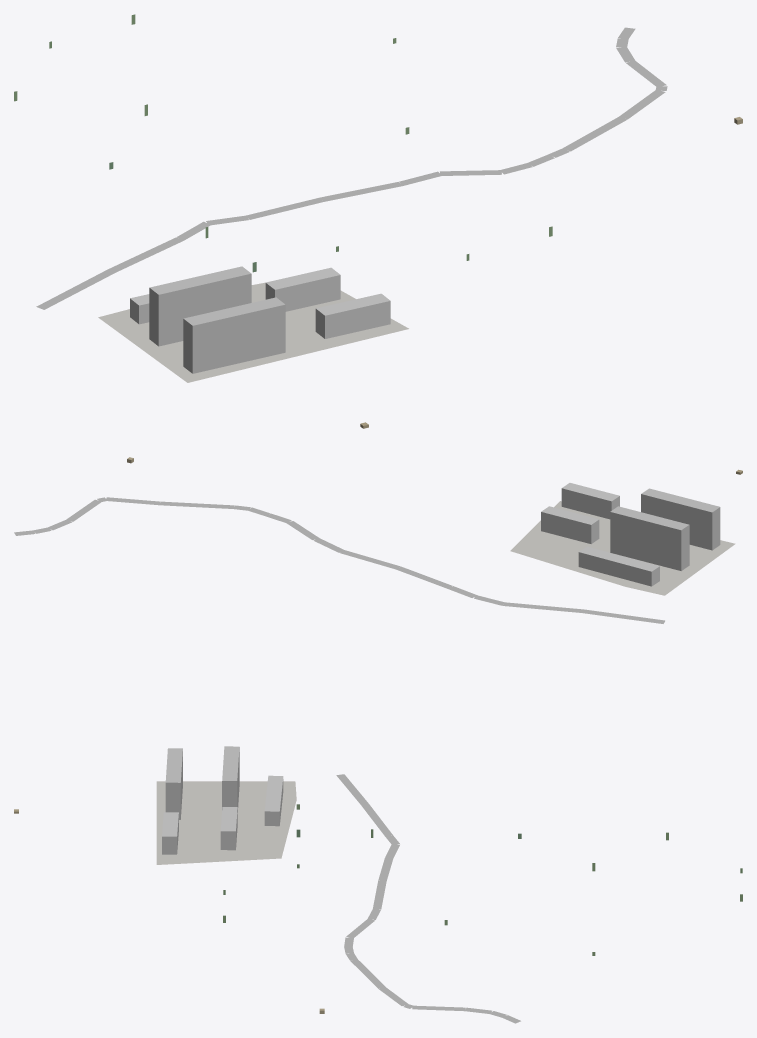
3 renders of one model, top to bottom at view 1: azimuth 30°, elevation 25°; view 2: azimuth 150°, elevation 25°; view 3: azimuth 270°, elevation 25°, orthographic. The views are drawn at different scales.
Size of the model in its own units: 515 by 40.08 by 592.
